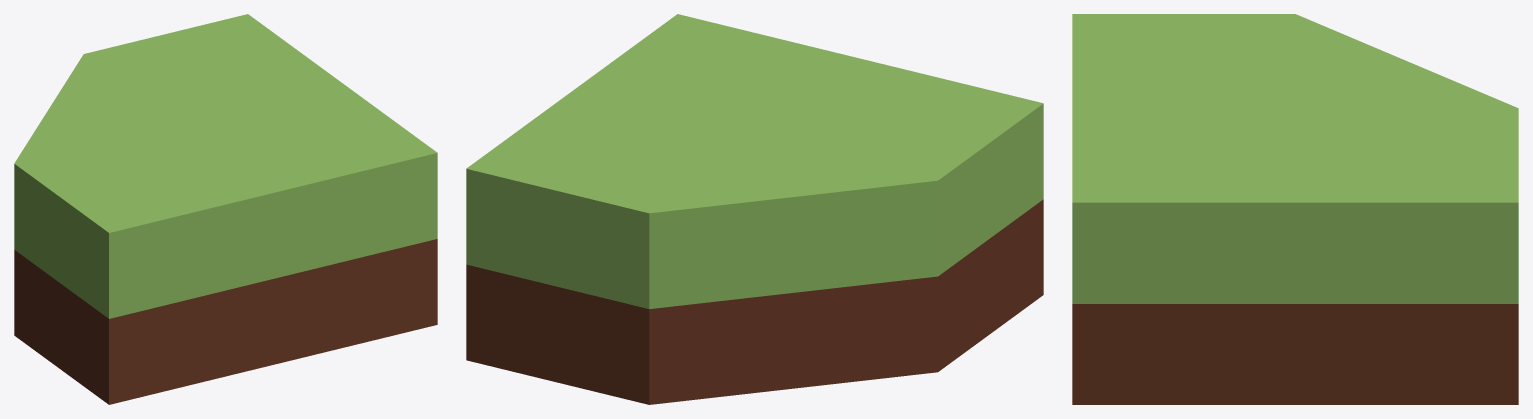
Rendered from a_z2_ground2.fbx.
The picture shows the model from 3 angles, left to right: view 1: azimuth 30°, elevation 25°; view 2: azimuth 150°, elevation 25°; view 3: azimuth 270°, elevation 25°; orthographic projection. The views are drawn at different scales.
Visible parts, largest first — view 1: a_z1_groundBlock2; view 2: a_z1_groundBlock2; view 3: a_z1_groundBlock2.
Boxes of the visible parts, x1,y1,x2,y2 form: a_z1_groundBlock2: (14, 14, 437, 404); a_z1_groundBlock2: (466, 14, 1043, 404); a_z1_groundBlock2: (1072, 14, 1518, 404).
Size of the model in its own units: 600 by 300 by 600.
1 material, 1 textured.
